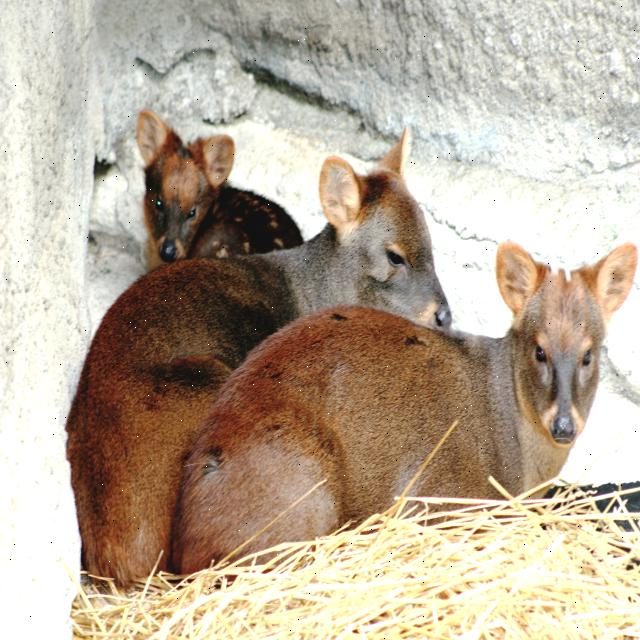deer: (273, 120, 458, 387), (464, 212, 636, 478), (96, 78, 248, 296)
